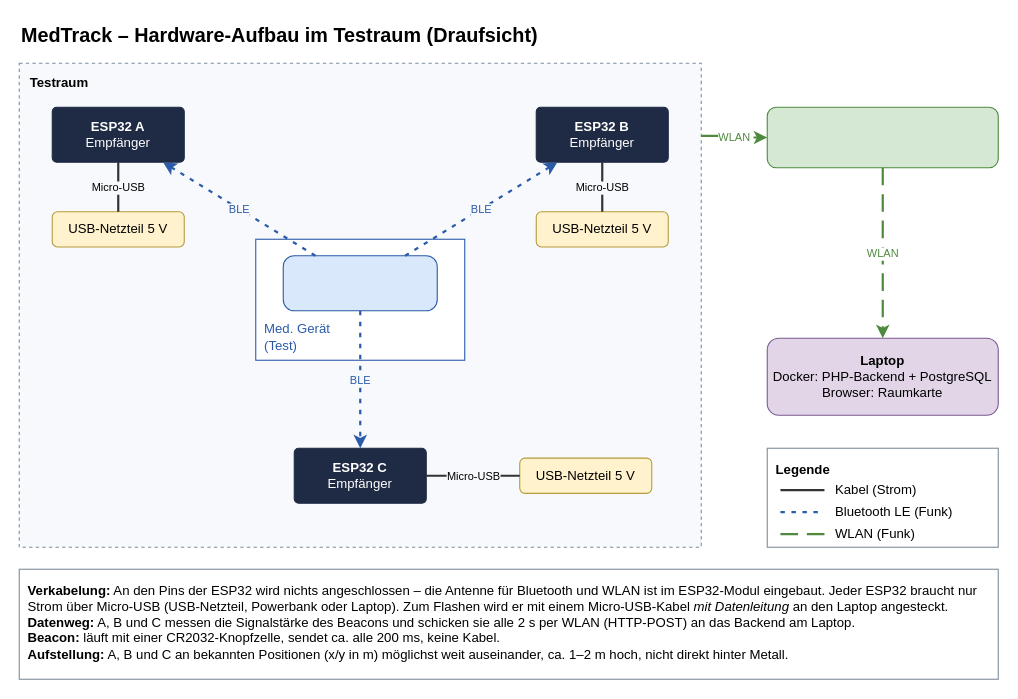
Some shapes in this 1018 by 699 pixel diagram are drawn without their labels. Each missing label, with the centre of its shape:
BLE-Beacon nRF52810 · CR2032: the point at 359,283
WLAN-Router / Handy-Hotspot 2,4 GHz, WPA2: the point at 882,137
